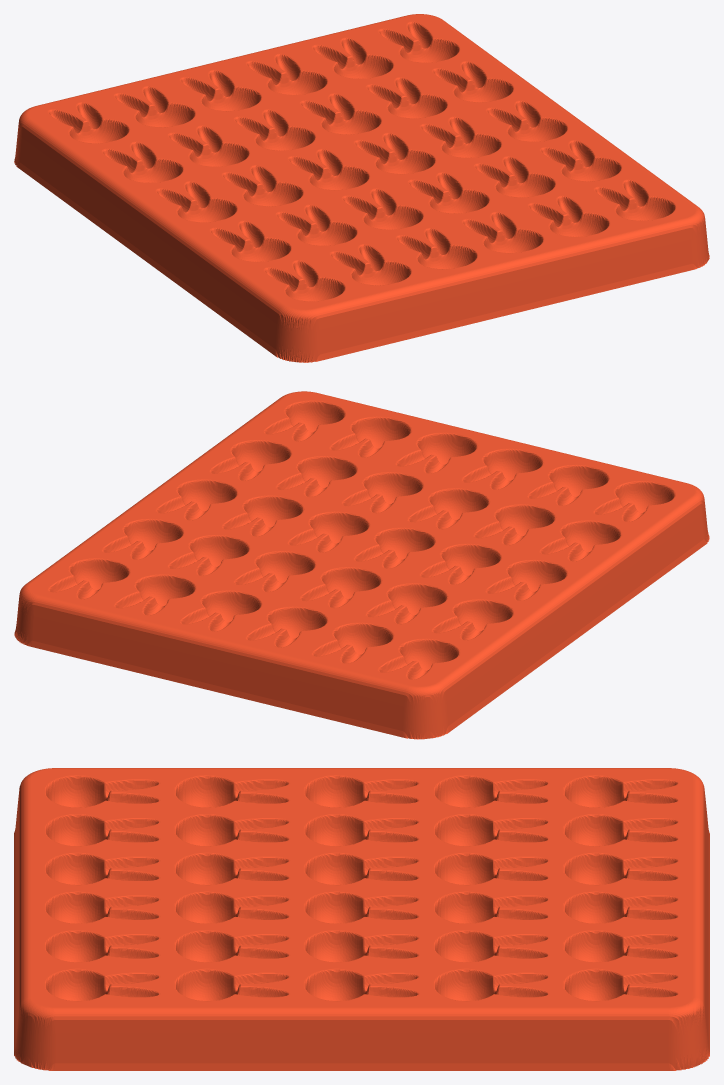
The model's file is mold.glb.
The picture shows the model from 3 angles, top to bottom: view 1: azimuth 30°, elevation 25°; view 2: azimuth 150°, elevation 25°; view 3: azimuth 270°, elevation 25°; orthographic projection. The views are drawn at different scales.
Parts seen in each view (by area): view 1: geometry_0; view 2: geometry_0; view 3: geometry_0.
Part boxes in pixels (x1,y1,x2,y2): geometry_0: (14, 14, 709, 362); geometry_0: (14, 391, 709, 739); geometry_0: (14, 768, 709, 1070).
Bounding box in the file's own units: 0.1305 × 0.0136 × 0.152.
